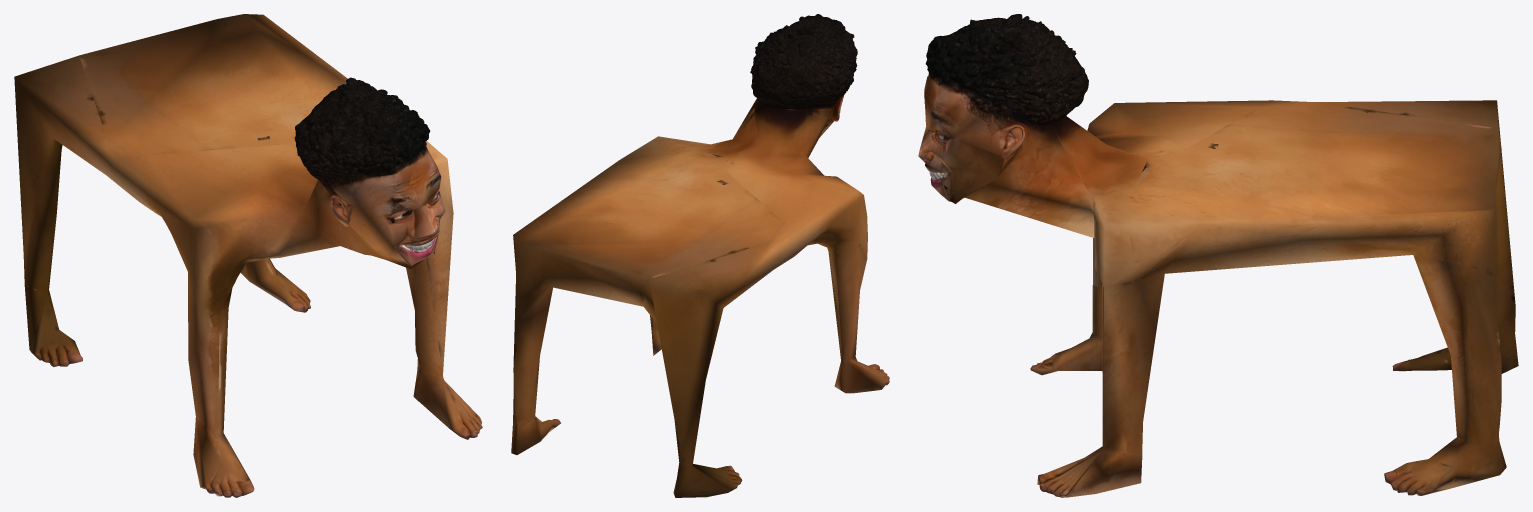
The model's file is mensa-C6i-JTIW.glb.
3 renders of one model, left to right at view 1: azimuth 30°, elevation 25°; view 2: azimuth 150°, elevation 25°; view 3: azimuth 270°, elevation 25°, orthographic. The views are drawn at different scales.
Visible parts, largest first — view 1: model_model_0; view 2: model_model_0; view 3: model_model_0.
Part boxes in pixels (left/top/right/bottom): model_model_0: left=14, top=14, right=482, bottom=497; model_model_0: left=511, top=14, right=889, bottom=497; model_model_0: left=918, top=14, right=1518, bottom=497.
Bounding box in the file's own units: 1.04 × 1.42 × 1.9.
1 material, 1 textured.
